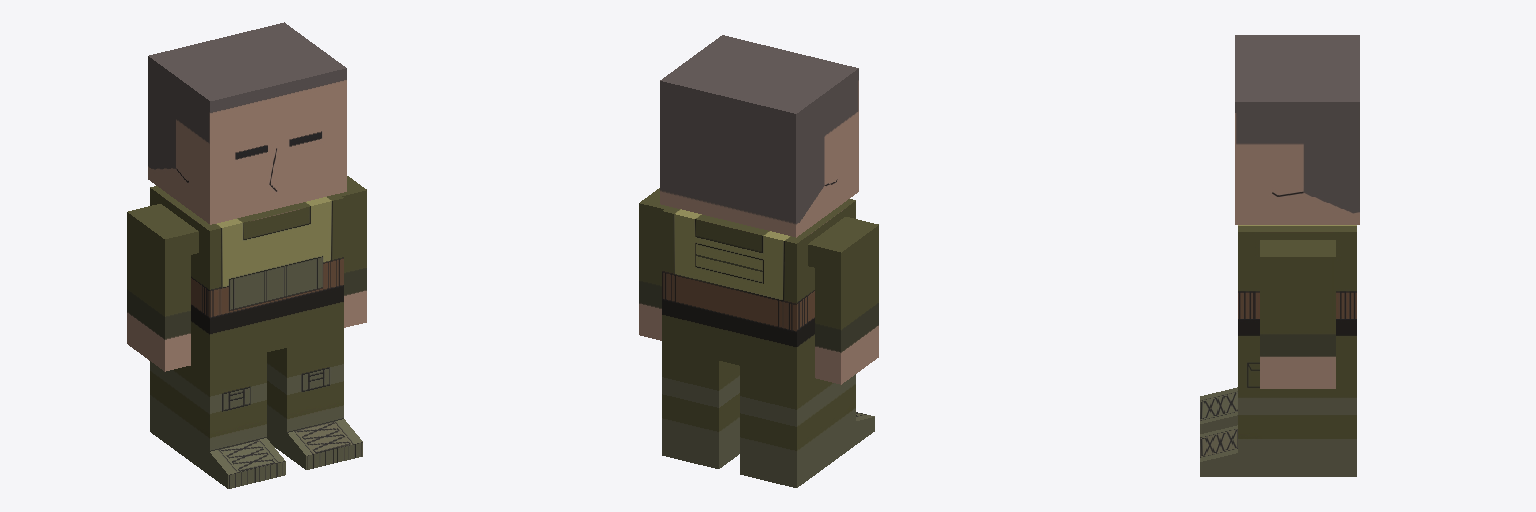
3 views of the same model, side by side, from view 1: azimuth 30°, elevation 25°; view 2: azimuth 150°, elevation 25°; view 3: azimuth 270°, elevation 25° (orthographic).
Visible parts, largest first — view 1: character_box_02; view 2: character_box_02; view 3: character_box_02.
Boxes of the visible parts, x1=… form: character_box_02: x1=127, y1=22, x2=366, y2=488; character_box_02: x1=639, y1=35, x2=878, y2=487; character_box_02: x1=1200, y1=35, x2=1359, y2=476.
Bounding box in the file's own units: 0.4773 × 0.8453 × 0.3248.
1 materials, 1 textured.